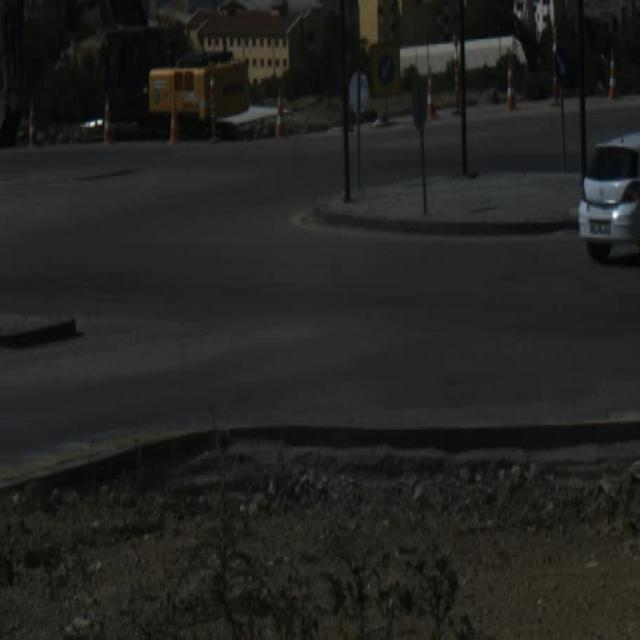Car: (576, 129, 640, 256)
